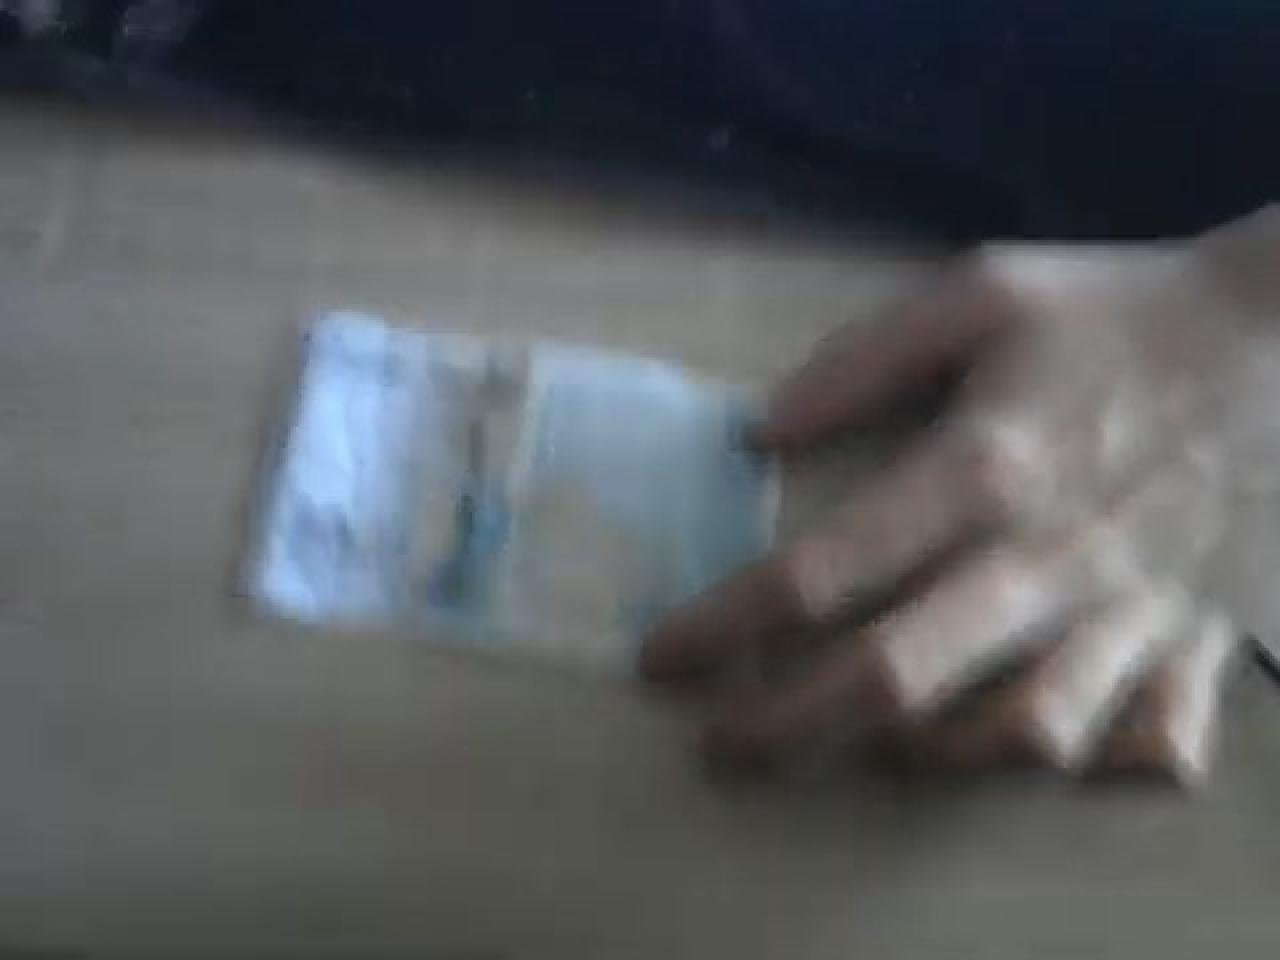20leva: (232, 312, 776, 686)
